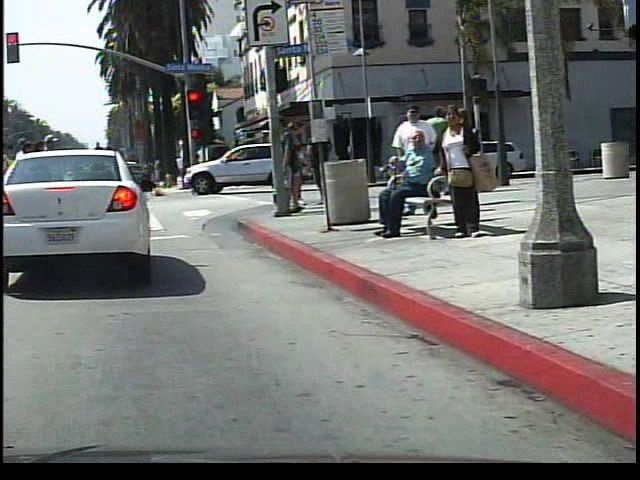person: (428, 100, 485, 238), (372, 132, 441, 243), (277, 119, 319, 210), (191, 147, 192, 198)
